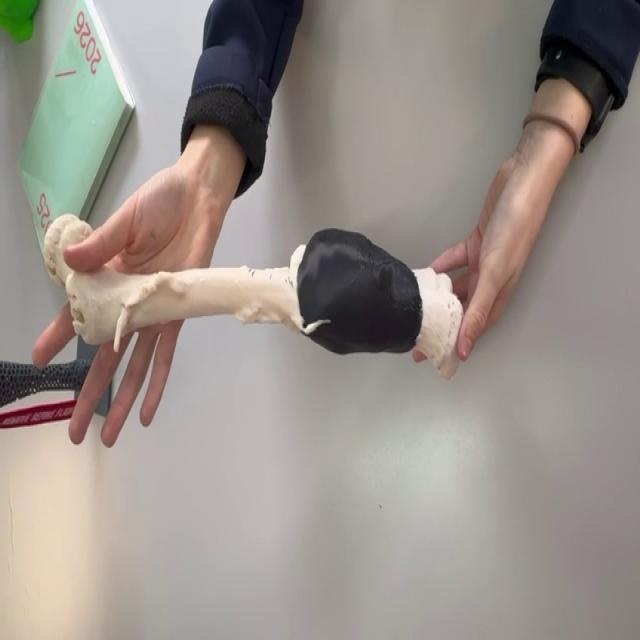bones: (44, 215, 463, 378)
